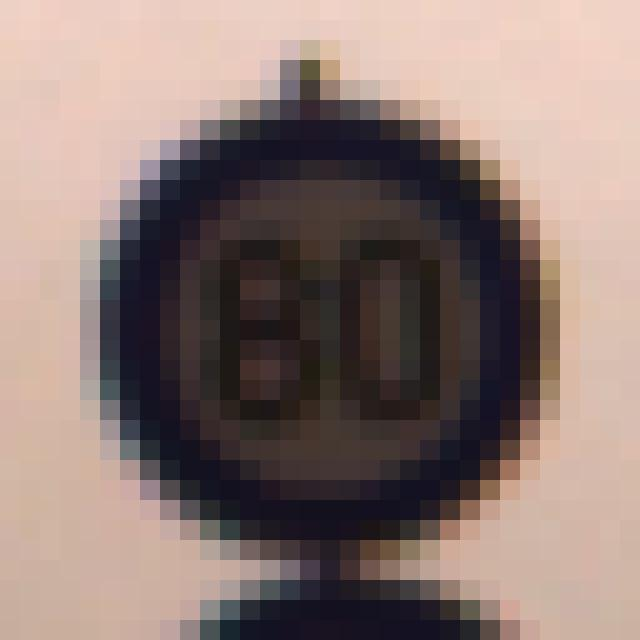SPEED-LIMIT-80: (92, 107, 546, 539)
